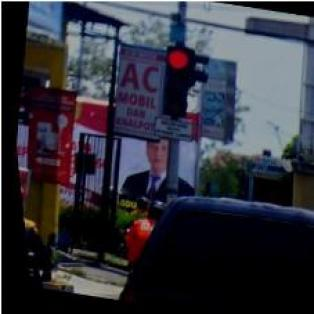Semaforo Rojo: (154, 44, 196, 119)
